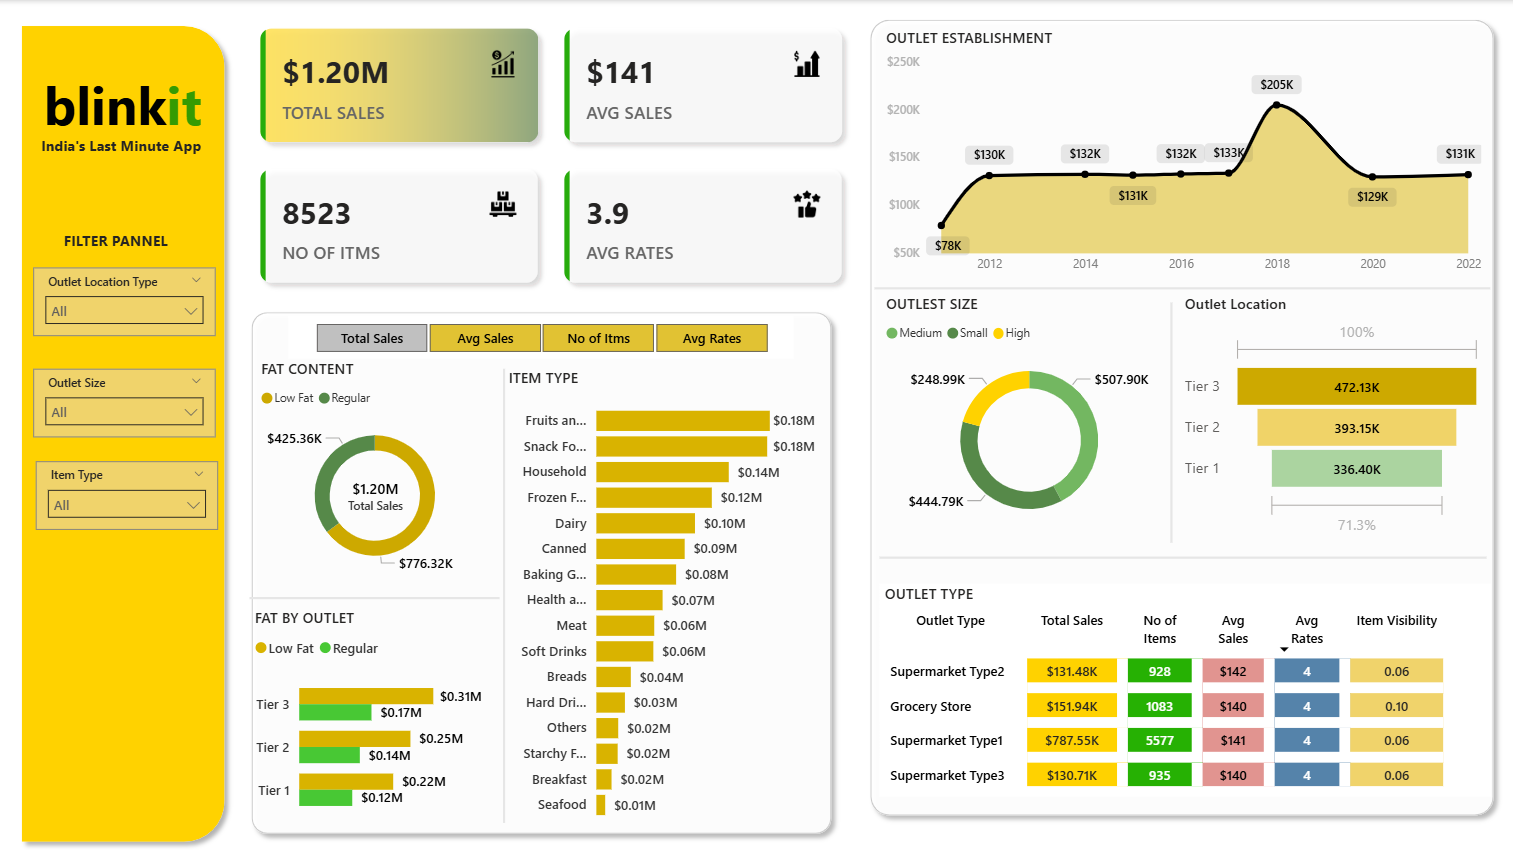

Layout of this report page (visuals, bound fields, positions):
{"tool":"powerbi","page":{"name":"Page 1","canvas":[1400,800],"ordinal":0},"visuals":[{"type":"shape","box":[14,15.3,204.8,769.4],"z":0},{"type":"textbox","box":[29.3,58.5,174.2,85.2],"z":1000},{"type":"textbox","box":[35.6,119.5,161.5,48.3],"z":2000},{"type":"cardVisual","fields":{"Data":["BlinkIT Grocery Data.Total Sales","BlinkIT Grocery Data.Avg Sales","BlinkIT Grocery Data.No of Itms","BlinkIT Grocery Data.Avg Rates"]},"box":[225.1,8.9,571,269.6],"z":3000},{"type":"shape","box":[225.1,278.5,552,498.5],"z":4000},{"type":"donutChart","title":"FAT CONTENT","fields":{"Y":["BlinkIT Grocery Data.Total Sales"],"Category":["BlinkIT Grocery Data.Item Fat Content"]},"box":[237.8,330.7,220,207.3],"z":5000},{"type":"slicer","fields":{"Values":["Metrics.Metrics"]},"box":[268.4,291.2,465.5,39.4],"z":6000},{"type":"cardVisual","fields":{"Data":["BlinkIT Grocery Data.Total Sales"]},"box":[301.4,423.5,94.1,64.9],"z":7000},{"type":"clusteredBarChart","title":"FAT BY OUTLET","fields":{"Y":["BlinkIT Grocery Data.Total Sales"],"Category":["BlinkIT Grocery Data.Outlet Location Type"],"Series":["BlinkIT Grocery Data.Item Fat Content"]},"box":[233.1,559.5,219.3,205.4],"z":8000},{"type":"shape","box":[232.7,538,230.2,26.7],"z":9000},{"type":"shape","box":[457.9,339.6,17.8,418.4],"z":10000},{"type":"barChart","title":"ITEM TYPE","fields":{"Y":["BlinkIT Grocery Data.Total Sales"],"Category":["BlinkIT Grocery Data.Item Type"]},"box":[466.8,338.3,292.5,427.3],"z":11000},{"type":"shape","box":[796.2,8.9,592,751],"z":12000},{"type":"lineChart","title":"OUTLET ESTABLISHMENT","fields":{"Category":["BlinkIT Grocery Data.Outlet Establishment Year"],"Y":["BlinkIT Grocery Data.Total Sales"]},"box":[814,25.4,558.3,235.3],"z":13000},{"type":"shape","box":[808.9,256.9,567.2,17.8],"z":14000},{"type":"donutChart","title":"OUTLEST SIZE","fields":{"Y":["BlinkIT Grocery Data.Total Sales"],"Category":["BlinkIT Grocery Data.Outlet Size"]},"box":[814,270.9,274.7,225.1],"z":15000},{"type":"shape","box":[1075.9,278.5,12.7,221.3],"z":16000},{"type":"funnel","title":"Outlet Location","fields":{"Category":["BlinkIT Grocery Data.Outlet Location Type"],"Y":["Sum(BlinkIT Grocery Data.Sales)"]},"box":[1088.7,270.9,283.6,228.9],"z":17000},{"type":"shape","box":[812.7,499.8,559.6,28],"z":18000},{"type":"pivotTable","title":"OUTLET TYPE","fields":{"Values":["BlinkIT Grocery Data.Total Sales","BlinkIT Grocery Data.No of Itms","BlinkIT Grocery Data.Avg Sales","BlinkIT Grocery Data.Avg Rates","Avg(BlinkIT Grocery Data.Item Visibility)"],"Rows":["BlinkIT Grocery Data.Outlet Type"]},"box":[812.7,538,563.4,195.9],"z":19000},{"type":"slicer","fields":{"Values":["BlinkIT Grocery Data.Outlet Location Type"]},"box":[33.1,246.7,167.9,63.6],"z":20000},{"type":"slicer","fields":{"Values":["BlinkIT Grocery Data.Outlet Size"]},"box":[33.1,339.6,167.9,63.6],"z":21000},{"type":"slicer","fields":{"Values":["BlinkIT Grocery Data.Item Type"]},"box":[35.6,424.8,167.9,63.6],"z":22000},{"type":"textbox","box":[56.7,206.7,119.7,30.2],"z":23000}]}

Visuals, with their boxes in screenshot pixels (x1, y1, x2, y2), scaled from the page's 1400x800 canvas onto the 1513x850 screenshot:
shape: l=15, t=16, r=236, b=834
textbox: l=32, t=62, r=220, b=153
textbox: l=38, t=127, r=213, b=178
cardVisual - BlinkIT Grocery Data.Total Sales x BlinkIT Grocery Data.Avg Sales: l=243, t=9, r=860, b=296
shape: l=243, t=296, r=840, b=826
"FAT CONTENT" donutChart: l=257, t=351, r=495, b=572
slicer - Metrics.Metrics: l=290, t=309, r=793, b=351
cardVisual - BlinkIT Grocery Data.Total Sales: l=326, t=450, r=427, b=519
"FAT BY OUTLET" clusteredBarChart: l=252, t=594, r=489, b=813
shape: l=251, t=572, r=500, b=600
shape: l=495, t=361, r=514, b=805
"ITEM TYPE" barChart: l=504, t=359, r=821, b=813
shape: l=860, t=9, r=1500, b=807
"OUTLET ESTABLISHMENT" lineChart: l=880, t=27, r=1483, b=277
shape: l=874, t=273, r=1487, b=292
"OUTLEST SIZE" donutChart: l=880, t=288, r=1177, b=527
shape: l=1163, t=296, r=1176, b=531
"Outlet Location" funnel: l=1177, t=288, r=1483, b=531
shape: l=878, t=531, r=1483, b=561
"OUTLET TYPE" pivotTable: l=878, t=572, r=1487, b=780
slicer - BlinkIT Grocery Data.Outlet Location Type: l=36, t=262, r=217, b=330
slicer - BlinkIT Grocery Data.Outlet Size: l=36, t=361, r=217, b=428
slicer - BlinkIT Grocery Data.Item Type: l=38, t=451, r=220, b=519
textbox: l=61, t=220, r=191, b=252
